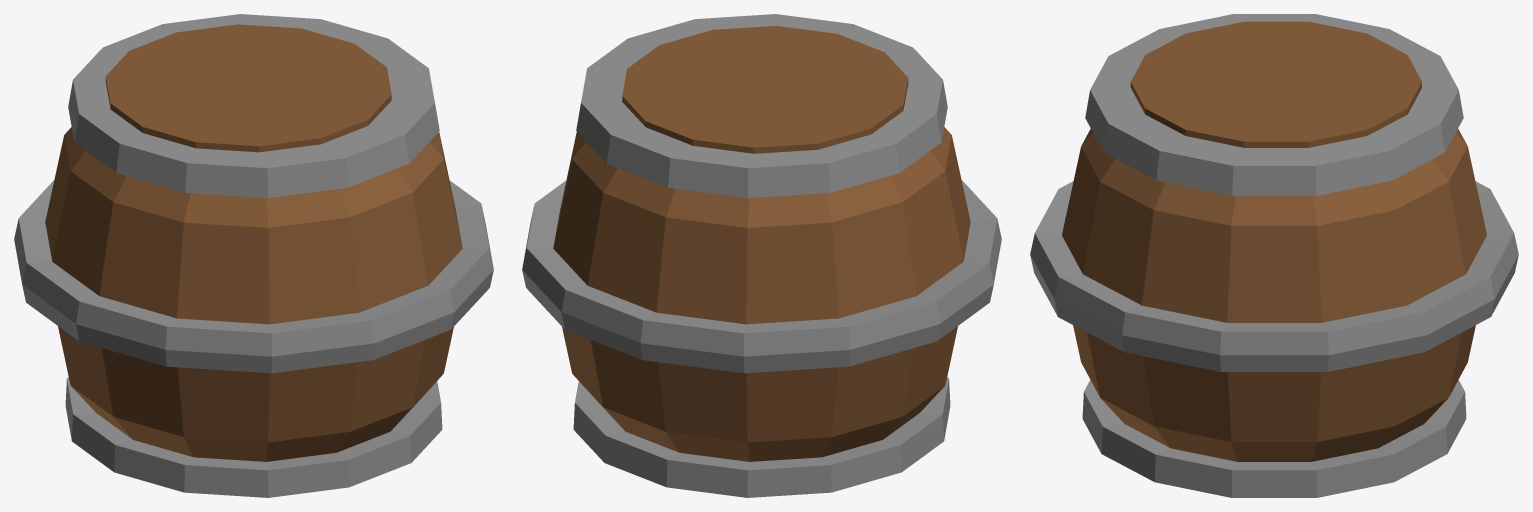
Rendered from Barrel.fbx.
3 renders of one model, left to right at view 1: azimuth 30°, elevation 25°; view 2: azimuth 150°, elevation 25°; view 3: azimuth 270°, elevation 25°, orthographic.
Parts seen in each view (by area): view 1: Cube; view 2: Cube; view 3: Cube.
Part boxes in pixels (x1,y1,x2,y2): Cube: [14, 14, 493, 497]; Cube: [522, 14, 1001, 497]; Cube: [1030, 14, 1518, 497].
Bounding box in the file's own units: 327 × 254 × 336.
